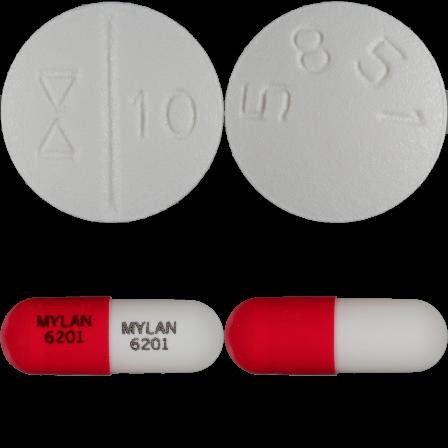69189-5851: (0, 0, 224, 224)
